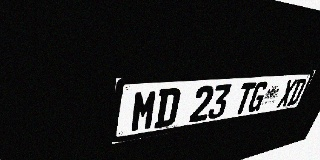2: (189, 85, 216, 123)
3: (207, 84, 232, 120)
D: (153, 87, 182, 129), (286, 78, 307, 106)
G: (246, 81, 270, 113)
M: (130, 89, 159, 133)
T: (232, 82, 257, 115)
X: (276, 79, 298, 108)
